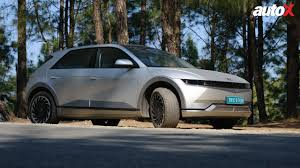Honda Ioniq: (18, 37, 262, 135)
